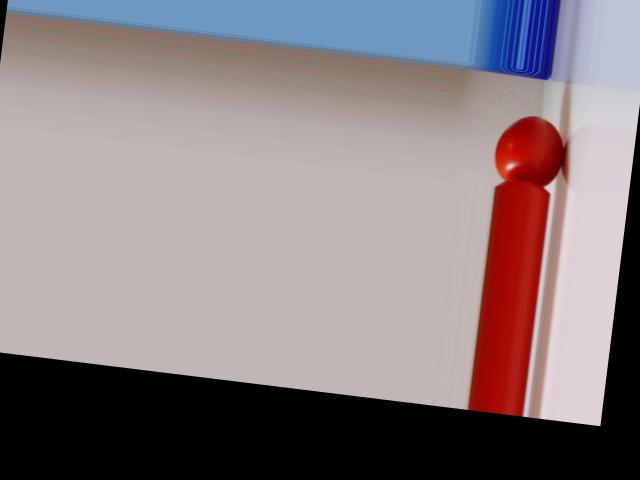tomato: (492, 112, 567, 187)
